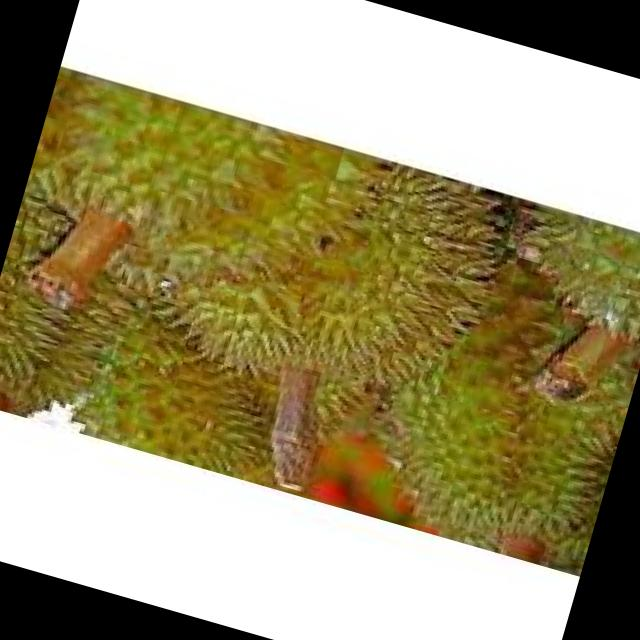fruit: (354, 194, 640, 578)
